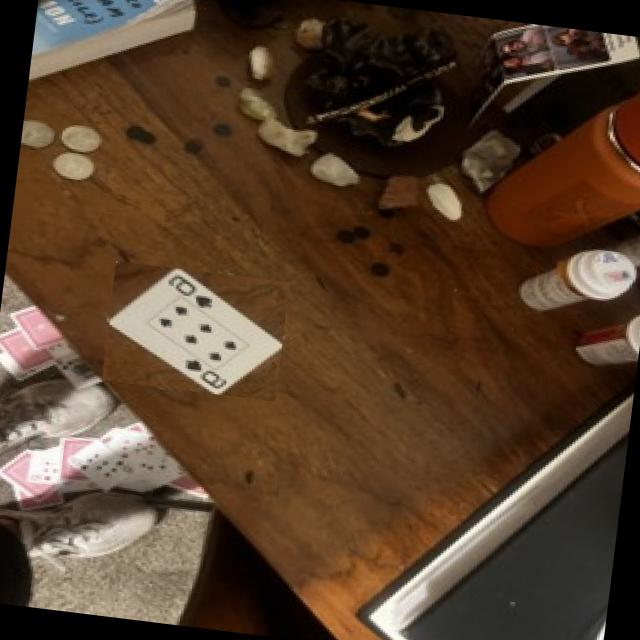6 of spades: (107, 268, 280, 394)
